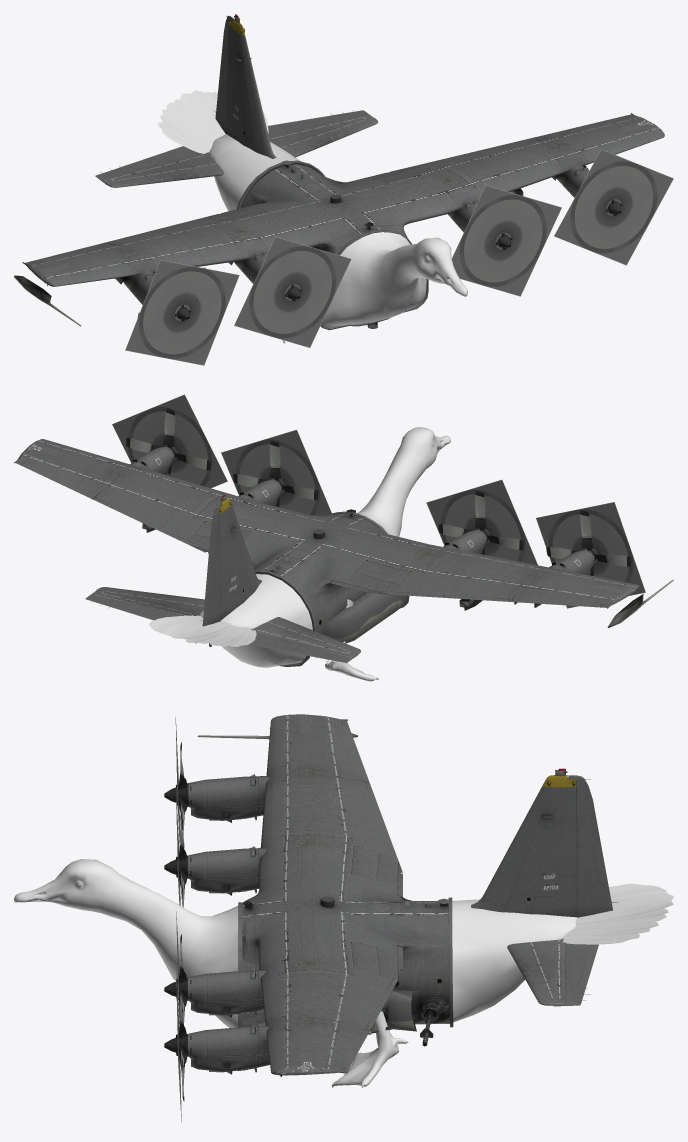
File: Guzini.fbx
3 views of the same model, one above another, from view 1: azimuth 30°, elevation 25°; view 2: azimuth 150°, elevation 25°; view 3: azimuth 270°, elevation 25° (orthographic). The views are drawn at different scales.
Parts seen in each view (by area): view 1: Hull, prop_roll, sm_1_0_0.001, Hull.001, sm_1_0_0.002, Rudder.001, elevator_r.001, elevator_l.001, aileron_l, aileron_r; view 2: Hull, prop_roll, Hull.001, sm_1_0_0.002, sm_1_0_0.001, Rudder.001, aileron_l, aileron_r, prop_1, prop_2, prop_3, prop_4 (+5 smaller); view 3: Hull, Hull.001, sm_1_0_0.002, sm_1_0_0.001, Rudder.001, sm_1_0_0.003, elevator_l.001, aileron_r, aileron_l, prop_roll, prop_1, prop_3 (+1 smaller).
Part boxes in pixels (left/top/right/bottom): Hull: left=14, top=113, right=664, bottom=330; prop_roll: left=125, top=149, right=673, bottom=365; sm_1_0_0.001: left=321, top=232, right=467, bottom=328; Hull.001: left=103, top=14, right=378, bottom=187; sm_1_0_0.002: left=157, top=90, right=300, bottom=211; Rudder.001: left=213, top=15, right=233, bottom=133; elevator_r.001: left=95, top=146, right=199, bottom=185; elevator_l.001: left=268, top=110, right=372, bottom=136; aileron_l: left=534, top=114, right=639, bottom=140; aileron_r: left=25, top=243, right=116, bottom=266; Hull: left=14, top=439, right=673, bottom=666; prop_roll: left=112, top=394, right=645, bottom=608; Hull.001: left=93, top=494, right=360, bottom=657; sm_1_0_0.002: left=149, top=574, right=312, bottom=667; sm_1_0_0.001: left=357, top=427, right=450, bottom=536; Rudder.001: left=202, top=503, right=221, bottom=626; aileron_l: left=15, top=453, right=106, bottom=498; aileron_r: left=512, top=587, right=615, bottom=607; prop_1: left=126, top=408, right=211, bottom=476; prop_2: left=233, top=440, right=318, bottom=507; prop_3: left=438, top=491, right=523, bottom=554; prop_4: left=546, top=510, right=631, bottom=575; Hull: left=186, top=714, right=453, bottom=1076; Hull.001: left=471, top=768, right=577, bottom=1005; sm_1_0_0.002: left=452, top=883, right=673, bottom=1022; sm_1_0_0.001: left=14, top=859, right=238, bottom=1027; Rudder.001: left=568, top=775, right=617, bottom=917; sm_1_0_0.003: left=332, top=1011, right=408, bottom=1087; elevator_l.001: left=553, top=943, right=598, bottom=1006; aileron_r: left=325, top=717, right=369, bottom=782; aileron_l: left=325, top=1023, right=369, bottom=1071; prop_roll: left=175, top=717, right=181, bottom=1122; prop_1: left=164, top=988, right=187, bottom=1101; prop_3: left=164, top=812, right=187, bottom=907.
Size of the model in its own units: 2914 by 1102 by 2258.
